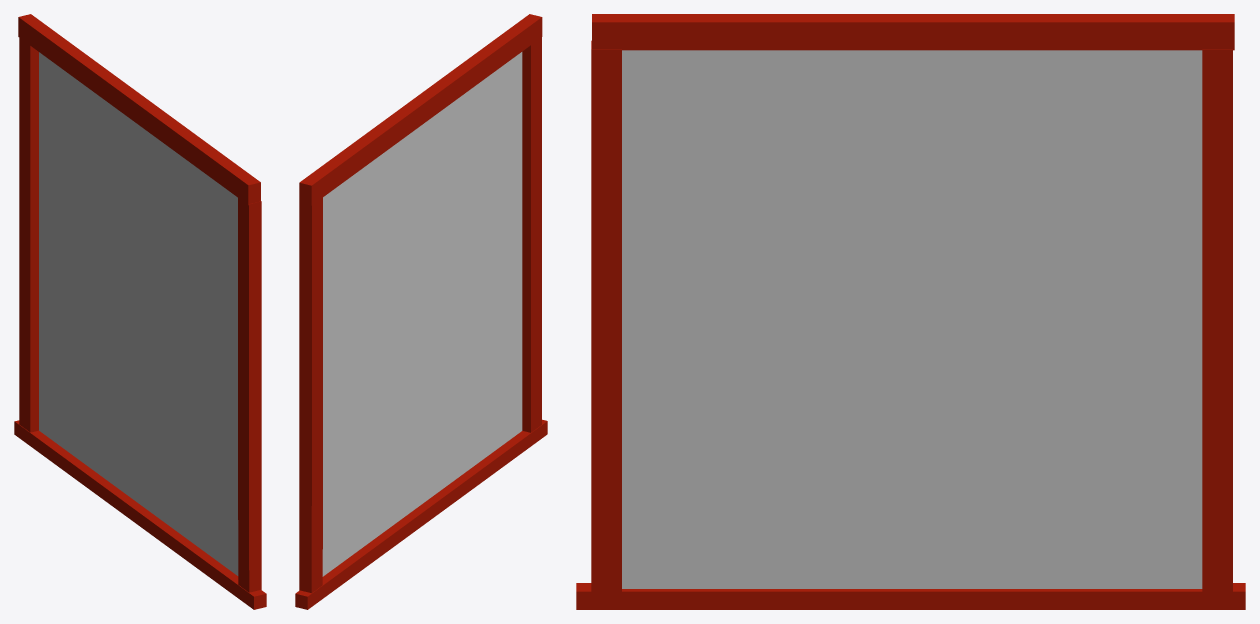
Rendered from Whiteboard.fbx.
The picture shows the model from 3 angles, left to right: view 1: azimuth 30°, elevation 25°; view 2: azimuth 150°, elevation 25°; view 3: azimuth 270°, elevation 25°; orthographic projection. The views are drawn at different scales.
Parts seen in each view (by area): view 1: Cube.001; view 2: Cube.001; view 3: Cube.001.
Part boxes in pixels (x1,y1,x2,y2): Cube.001: (14,14,266,609); Cube.001: (295,14,547,609); Cube.001: (576,14,1245,609).
Size of the model in its own units: 12.34 by 384 by 397.
